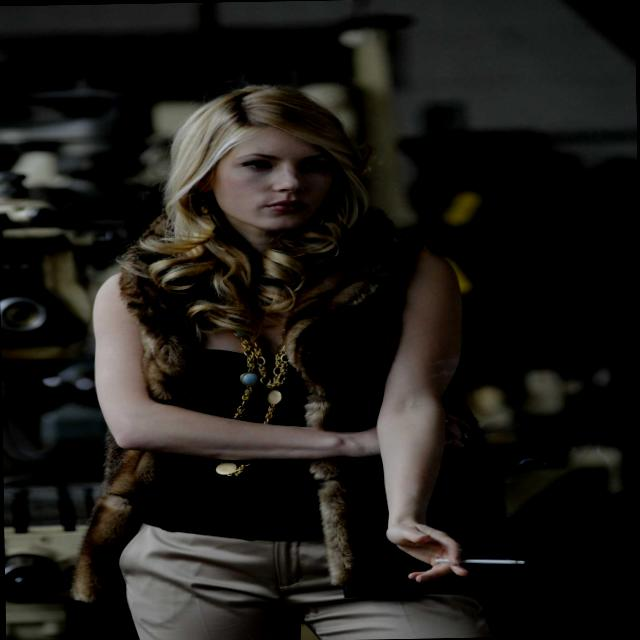cigarette: (414, 540, 548, 574)
